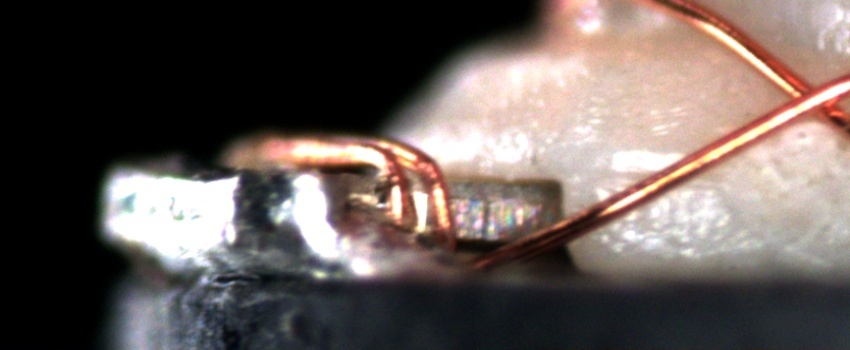CL: (760, 63, 847, 133)
DL: (599, 161, 725, 210)
TE: (229, 126, 467, 260)
